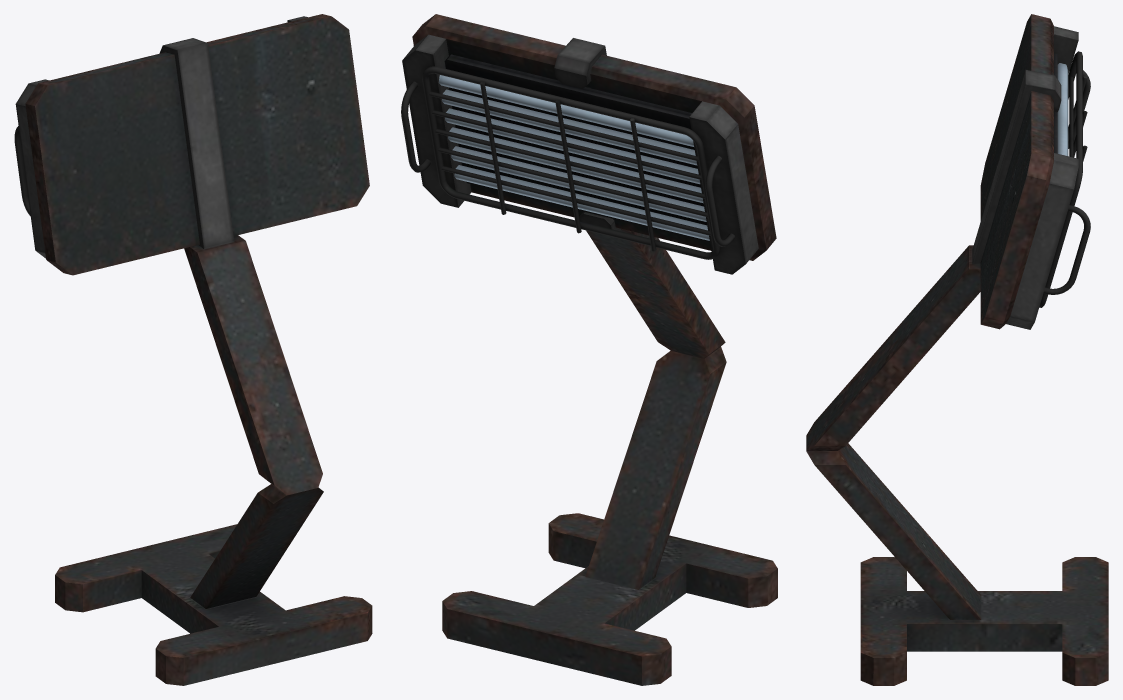
The model's file is TallLamp.FBX.
3 views of the same model, side by side, from view 1: azimuth 30°, elevation 25°; view 2: azimuth 150°, elevation 25°; view 3: azimuth 270°, elevation 25° (orthographic). The views are drawn at different scales.
Parts seen in each view (by area): view 1: TallLamp; view 2: TallLamp; view 3: TallLamp.
Boxes of the visible parts, x1,y1,x2,y2 form: TallLamp: (14,14,372,685); TallLamp: (401,14,777,685); TallLamp: (806,14,1108,685).
Bounding box in the file's own units: 95.9 × 162 × 79.79.
